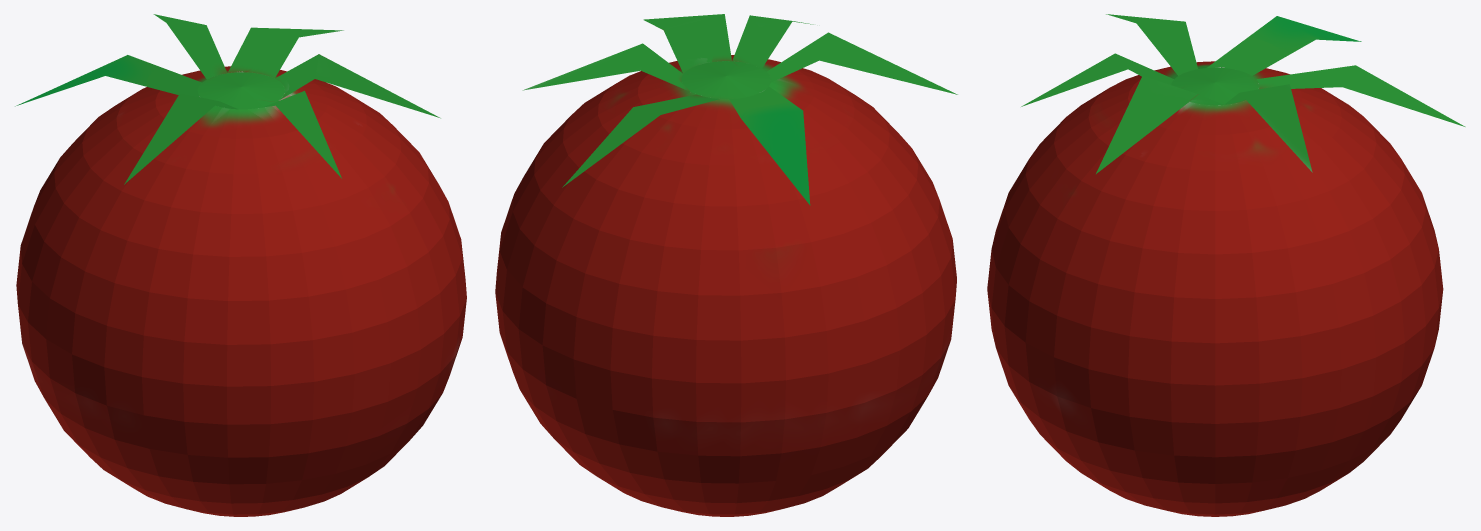
Rendered from pomodoro.glb.
3 renders of one model, left to right at view 1: azimuth 30°, elevation 25°; view 2: azimuth 150°, elevation 25°; view 3: azimuth 270°, elevation 25°, orthographic. The views are drawn at different scales.
Visible parts, largest first — view 1: Sphere; view 2: Sphere; view 3: Sphere.
Part boxes in pixels (x1=…): Sphere: x1=15, y1=14, x2=466, y2=516; Sphere: x1=495, y1=14, x2=957, y2=516; Sphere: x1=987, y1=14, x2=1465, y2=516.
Bounding box in the file's own units: 2 × 2.14 × 2.1.
1 material, 1 textured.
